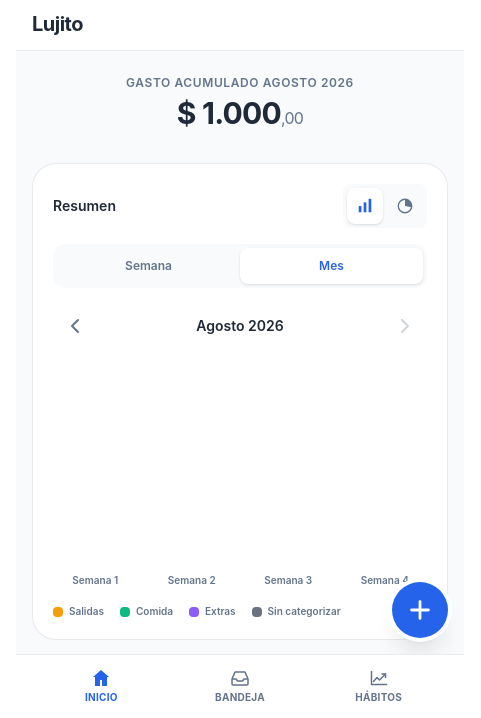
Test: PantallaDashboard › navegar al período anterior cambia el mes en foco al mes previo real, sin refetch
What coordinates should you click on to do the following:
click the button named "Período anterior"
I would click on:
 (75, 326)
Its box is [53,304,97,348].
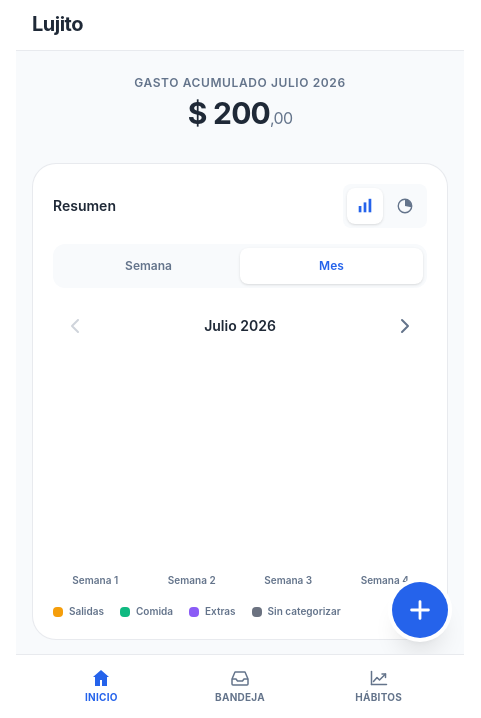
Expected: the text with test id "periodo-foco" reads "Julio 2026", [204,317,276,334]
Expected: the element with test id "total-acumulado" shows "$ 200", [188,95,270,131]
